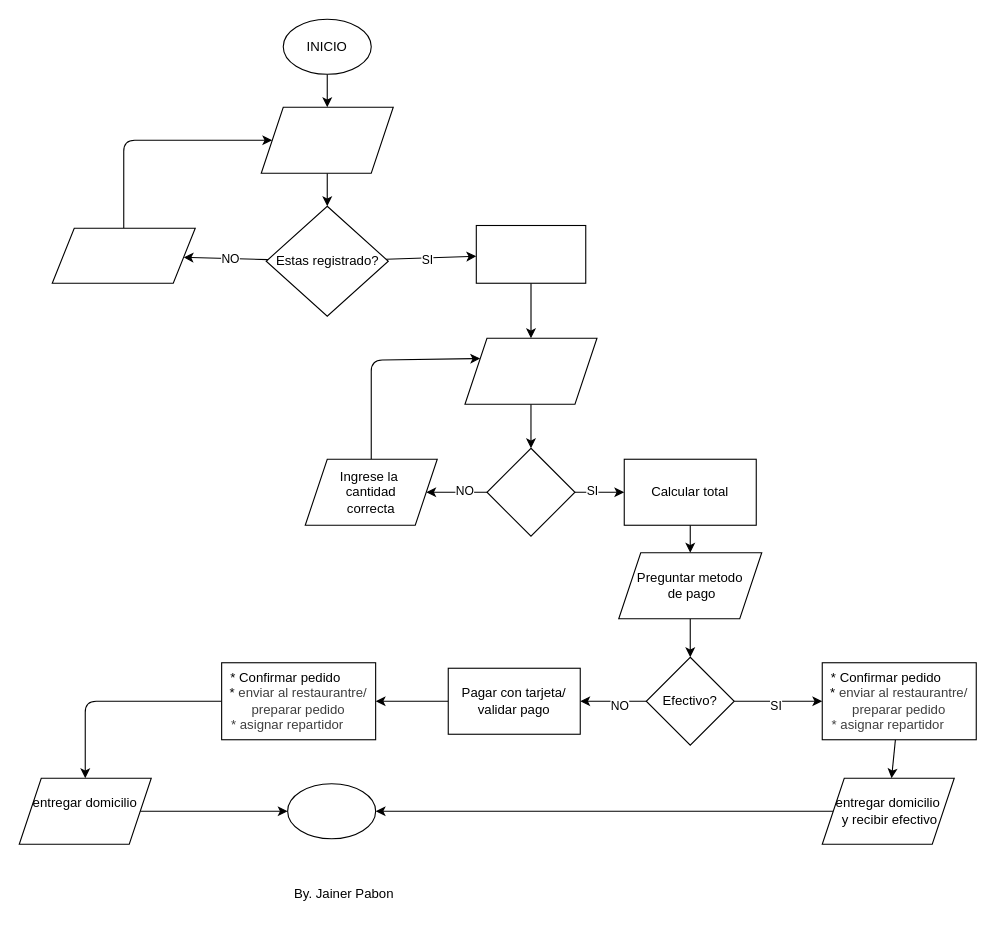
Image size: 996x930. Some labels were removed from this diagram. Here are the shapes that lost their labels. From the top down, the centre of each, then its label:
(326,139): Ingrese usuario
(123,255): Pedir datos basicos para registro
(530,253): Mostrar menú
(530,370): Seleccione productos e ingrese cantidad
(530,491): Cantidad mayor a 0?
(331,811): FIN
